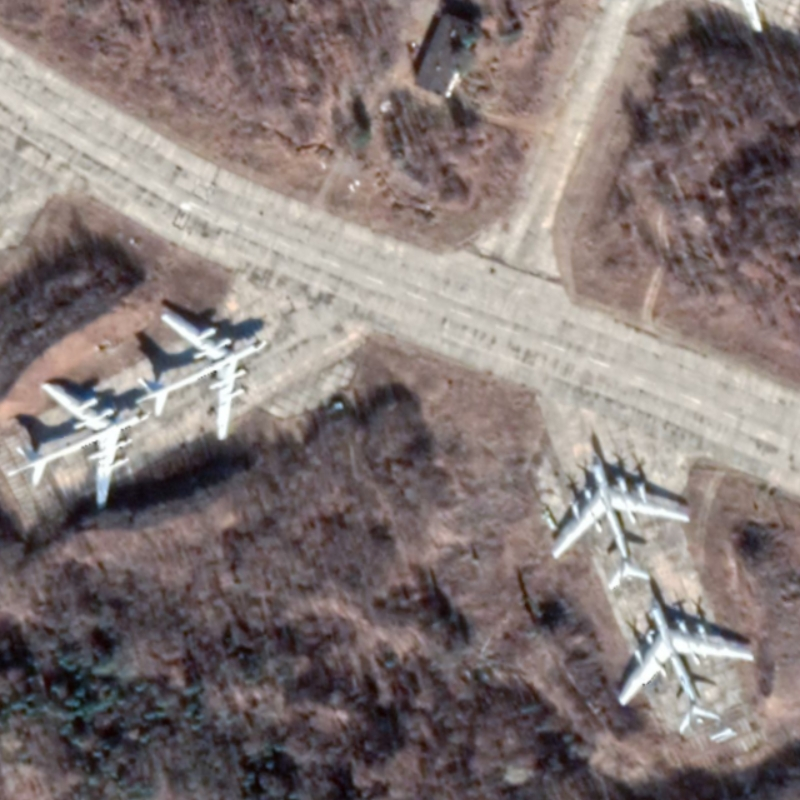A17: (541, 447, 694, 596), (610, 596, 759, 740), (6, 377, 151, 509), (131, 308, 269, 445)
